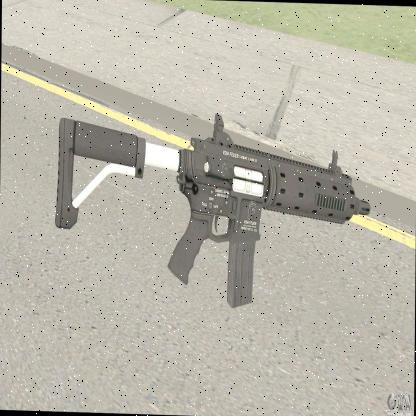rifle: (46, 106, 378, 326)
